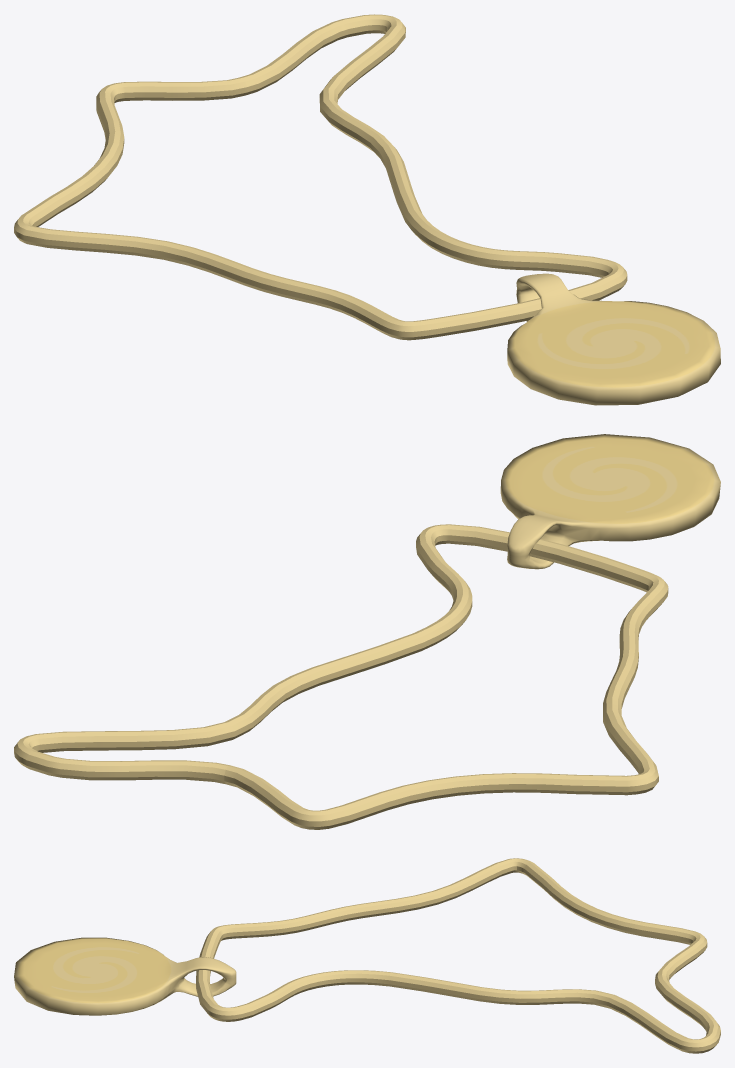
Rendered from Model_Necklace_Final.fbx.
3 views of the same model, one above another, from view 1: azimuth 30°, elevation 25°; view 2: azimuth 150°, elevation 25°; view 3: azimuth 270°, elevation 25° (orthographic). The views are drawn at different scales.
Parts seen in each view (by area): view 1: Model_Necklace; view 2: Model_Necklace; view 3: Model_Necklace.
Boxes of the visible parts, x1,y1,x2,y2 form: Model_Necklace: [14, 14, 720, 405]; Model_Necklace: [14, 434, 720, 829]; Model_Necklace: [14, 858, 720, 1053].
Size of the model in its own units: 14.79 by 1.16 by 23.63.
Materials: 1 (1 with a texture image).
